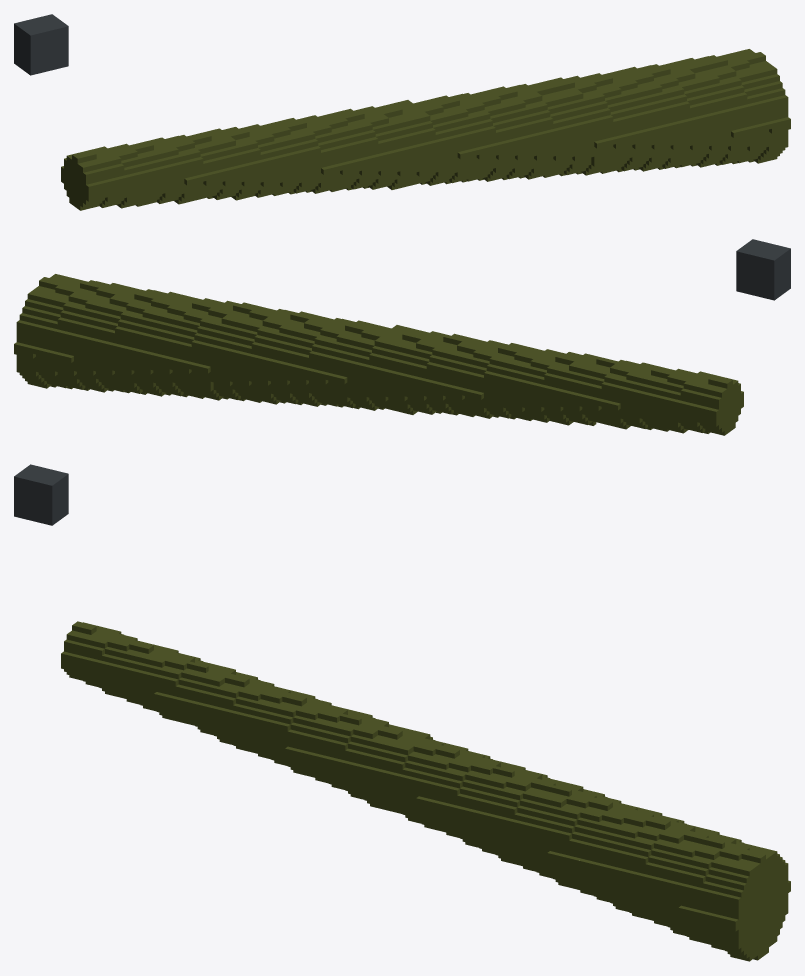
Rendered from military_transport_helicopter_tail_boom.glb.
3 views of the same model, one above another, from view 1: azimuth 30°, elevation 25°; view 2: azimuth 150°, elevation 25°; view 3: azimuth 330°, elevation 25° (orthographic).
Visible parts, largest first — view 1: body:compound; view 2: body:compound; view 3: body:compound.
Boxes of the visible parts, box(x1,y1,x2,y2) form: body:compound: box(14, 14, 790, 210); body:compound: box(14, 239, 790, 435); body:compound: box(14, 464, 790, 961).
Size of the model in its own units: 4.84 by 1.91 by 0.625.
